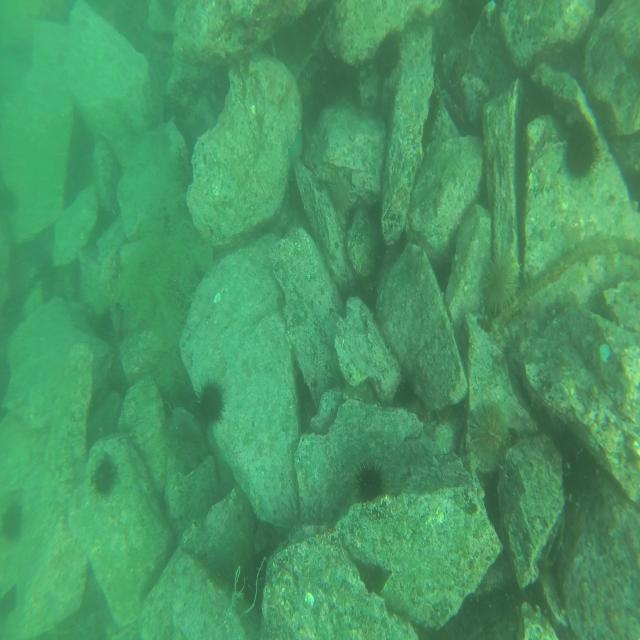echinus: (472, 401, 509, 467), (480, 254, 517, 310), (566, 132, 596, 180), (197, 381, 224, 428), (93, 454, 117, 500), (357, 463, 385, 502), (2, 504, 24, 542)
starfish: (288, 132, 303, 176)
